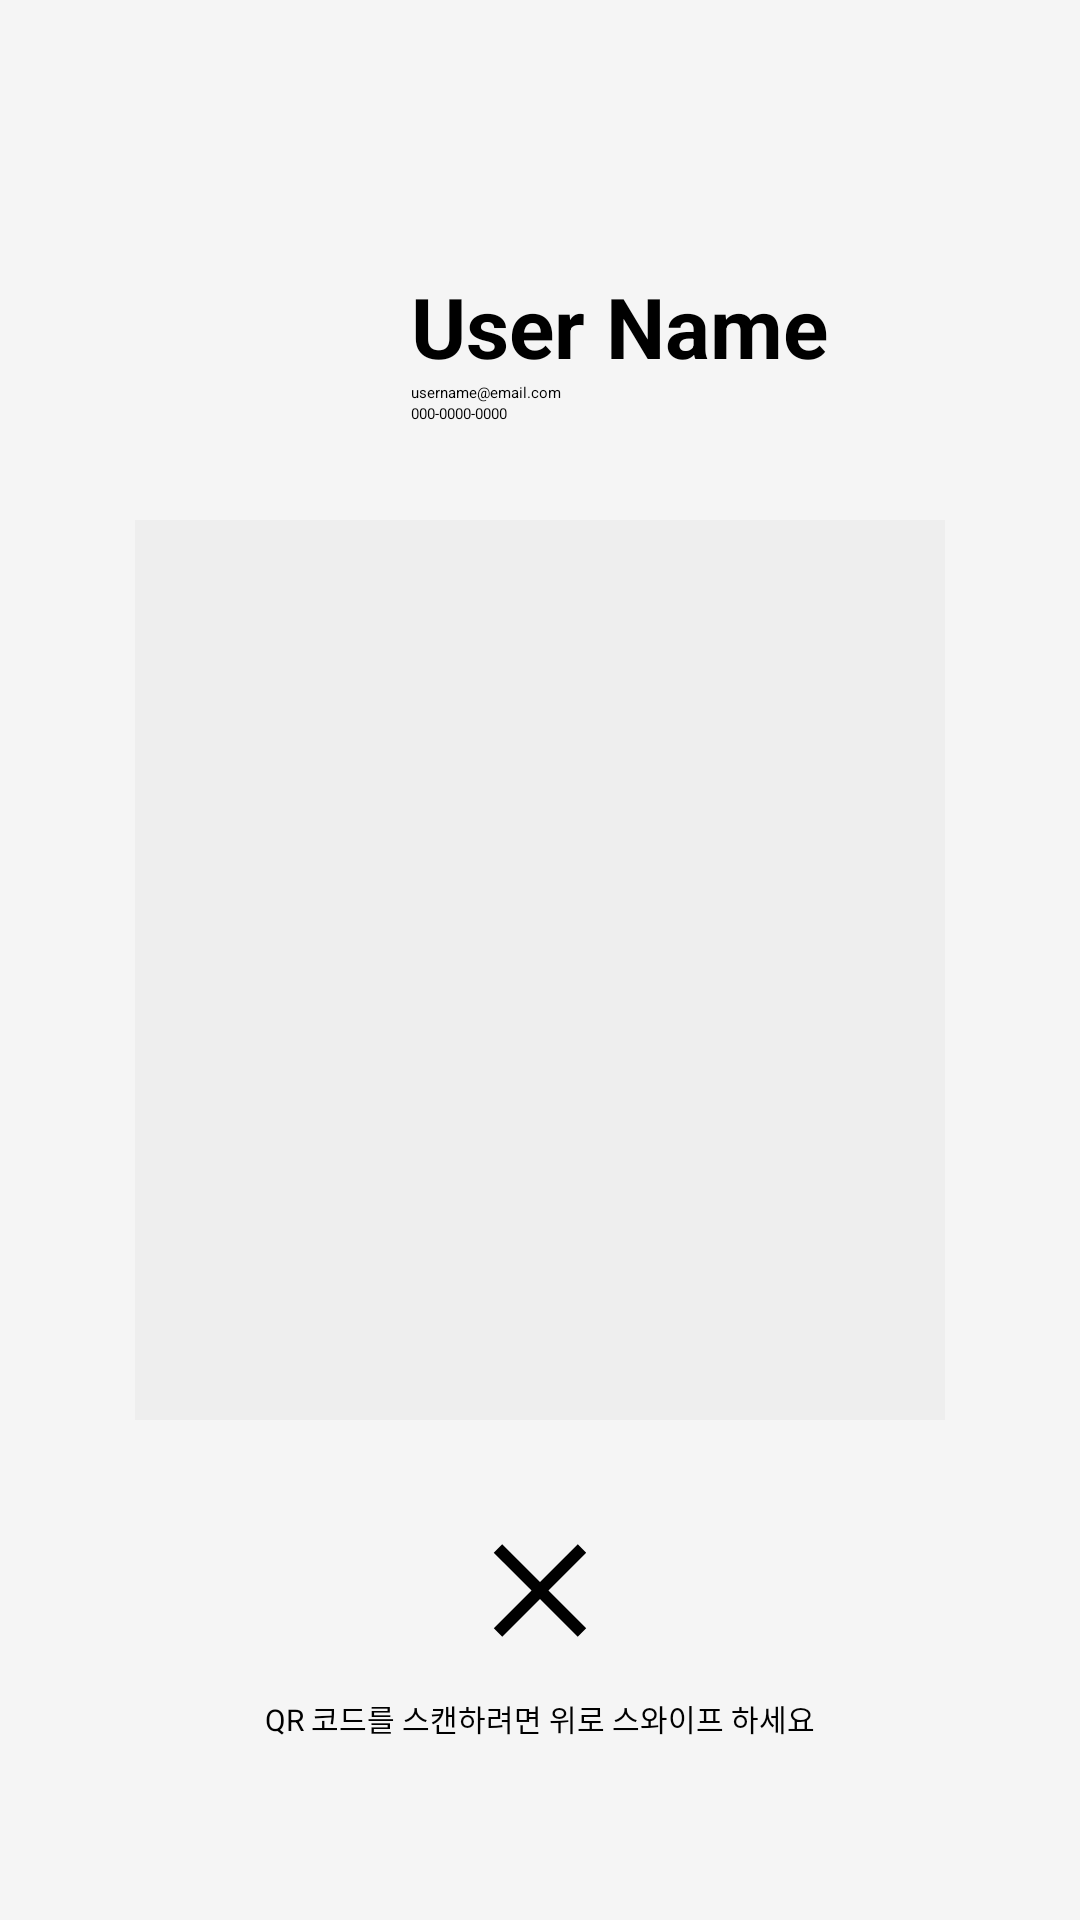

Where to tap for icons on this 1080 x 1920 app screen, as point (x, y):
Close Button: point (540, 1590)
